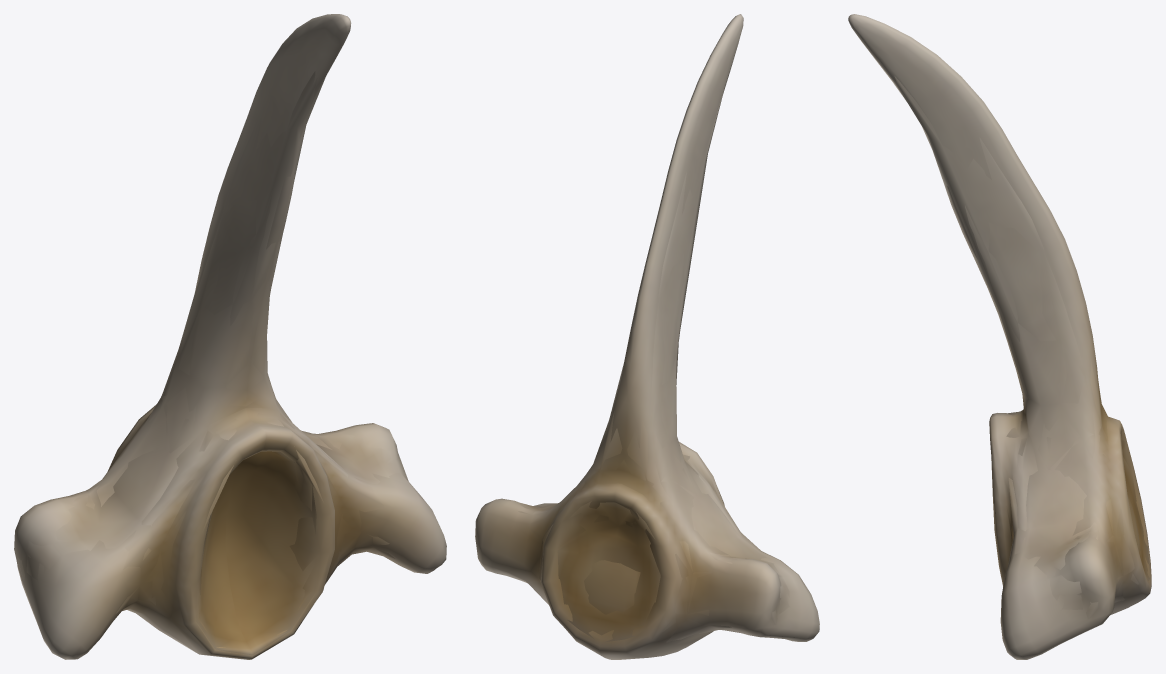
File: vertebra cervicalis 7.fbx
3 views of the same model, side by side, from view 1: azimuth 30°, elevation 25°; view 2: azimuth 150°, elevation 25°; view 3: azimuth 270°, elevation 25° (orthographic). The views are drawn at different scales.
Parts seen in each view (by area): view 1: vertebra cervicalis 7, vertebra cervicalis 7 low; view 2: vertebra cervicalis 7, vertebra cervicalis 7 low; view 3: vertebra cervicalis 7, vertebra cervicalis 7 low.
Boxes of the visible parts, x1=… form: vertebra cervicalis 7: x1=14, y1=14, x2=446, y2=659; vertebra cervicalis 7 low: x1=17, y1=71, x2=408, y2=655; vertebra cervicalis 7: x1=475, y1=14, x2=819, y2=659; vertebra cervicalis 7 low: x1=504, y1=88, x2=790, y2=642; vertebra cervicalis 7: x1=848, y1=14, x2=1151, y2=659; vertebra cervicalis 7 low: x1=894, y1=76, x2=1150, y2=619.
Bounding box in the file's own units: 4.67 × 8.12 × 3.66.
1 material, 1 textured.
